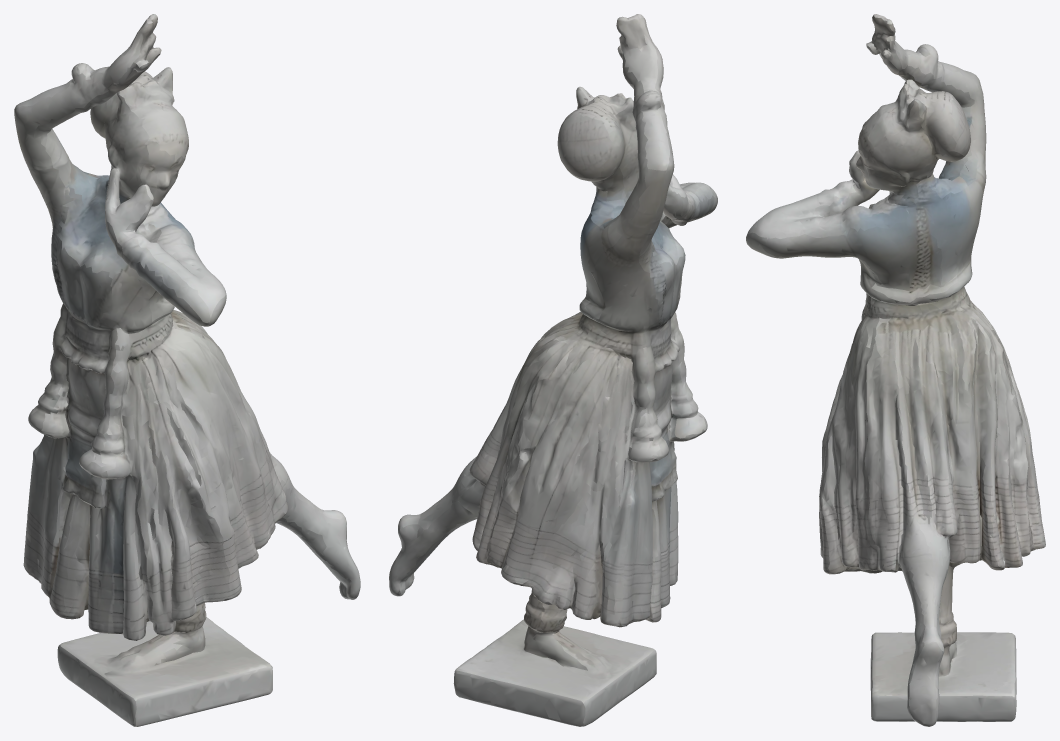
Rendered from statue01.glb.
The picture shows the model from 3 angles, left to right: view 1: azimuth 30°, elevation 25°; view 2: azimuth 150°, elevation 25°; view 3: azimuth 270°, elevation 25°; orthographic projection. The views are drawn at different scales.
Parts seen in each view (by area): view 1: textured_mesh; view 2: textured_mesh; view 3: textured_mesh.
Boxes of the visible parts, x1,y1,x2,y2 form: textured_mesh: (14, 14, 360, 726); textured_mesh: (389, 14, 717, 726); textured_mesh: (746, 14, 1045, 726).
Size of the model in its own units: 0.9454 by 1.99 by 0.8284.
1 material, 1 textured.
